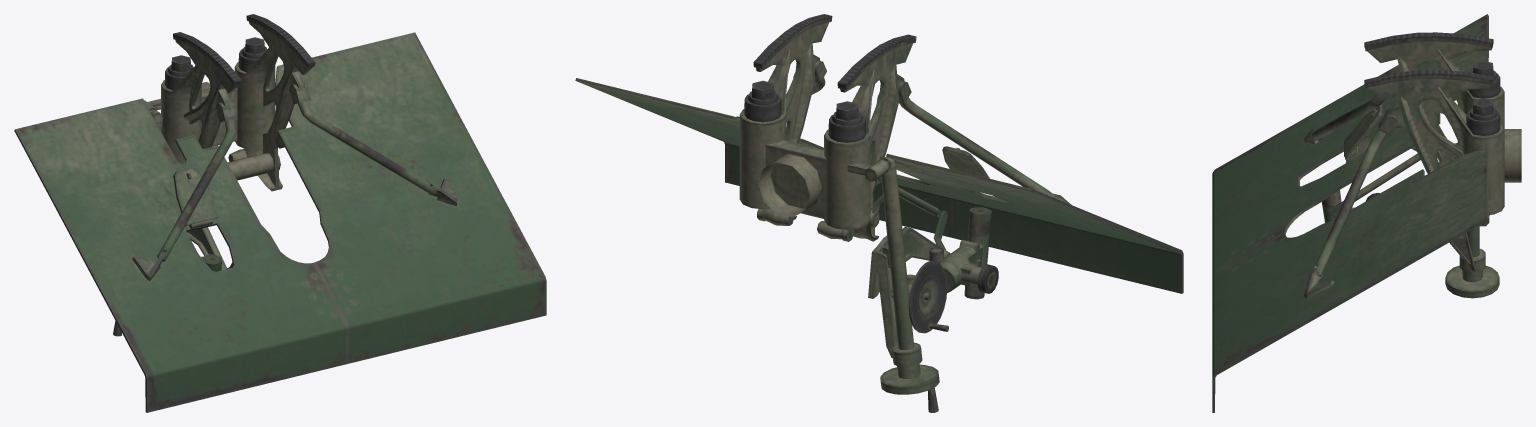
Rendered from Turret_01.glb.
3 views of the same model, side by side, from view 1: azimuth 30°, elevation 25°; view 2: azimuth 150°, elevation 25°; view 3: azimuth 270°, elevation 25° (orthographic). The views are drawn at different scales.
Visible parts, largest first — view 1: set_0_group_0; view 2: set_0_group_0; view 3: set_0_group_0.
Boxes of the visible parts, box(x1,y1,x2,y2) form: set_0_group_0: box(14, 14, 546, 412); set_0_group_0: box(575, 14, 1183, 412); set_0_group_0: box(1212, 14, 1521, 412).
Size of the model in its own units: 1.38 by 0.9367 by 0.8858.
Materials: 1 (1 with a texture image).
